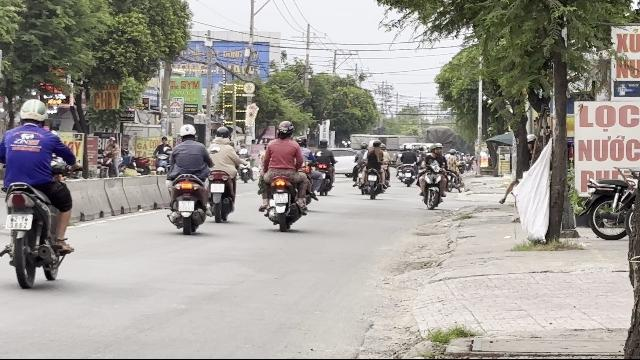helmet: (17, 98, 47, 126), (178, 124, 196, 140), (276, 120, 292, 138)
licenseplate: (6, 214, 32, 230), (178, 201, 194, 211), (274, 194, 288, 202)
motorcyclist: (0, 96, 76, 286), (255, 120, 312, 230), (163, 122, 211, 234)
